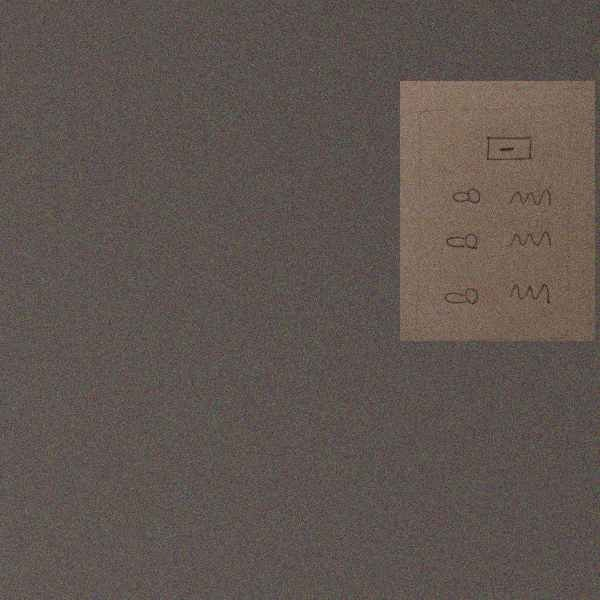button: (482, 133, 539, 166)
switch: (446, 184, 488, 211), (442, 284, 481, 312), (444, 230, 483, 254)
text: (503, 279, 556, 310), (503, 227, 556, 254), (501, 184, 556, 210)
